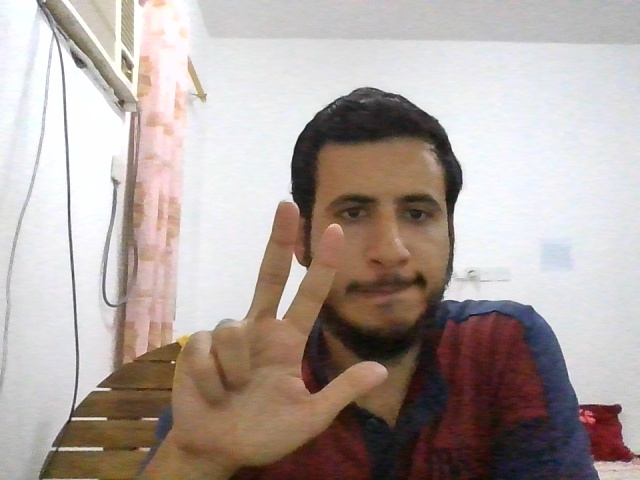Three: (171, 200, 390, 465)
